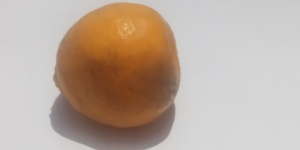BAD: (51, 2, 185, 128)
